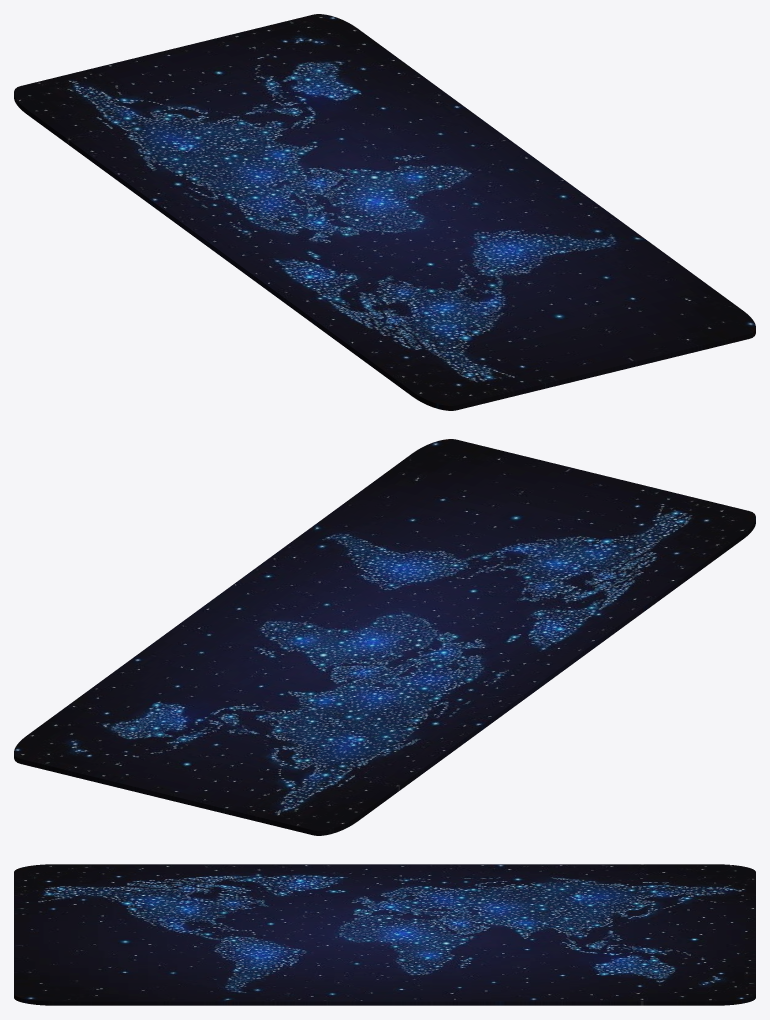
Rendered from Alfrombrilla.glb.
The picture shows the model from 3 angles, top to bottom: view 1: azimuth 30°, elevation 25°; view 2: azimuth 150°, elevation 25°; view 3: azimuth 270°, elevation 25°; orthographic projection. The views are drawn at different scales.
Visible parts, largest first — view 1: Escritorio_Alfrombrilla; view 2: Escritorio_Alfrombrilla; view 3: Escritorio_Alfrombrilla.
Boxes of the visible parts, bbox=[...] form: Escritorio_Alfrombrilla: bbox=[14, 14, 755, 410]; Escritorio_Alfrombrilla: bbox=[14, 439, 755, 835]; Escritorio_Alfrombrilla: bbox=[14, 864, 755, 1005].
Bounding box in the file's own units: 0.9216 × 0.0133 × 2.1.
Materials: 1 (1 with a texture image).
